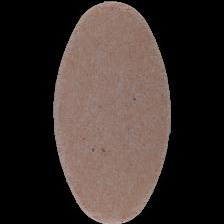16729-078: (0, 0, 224, 224)
